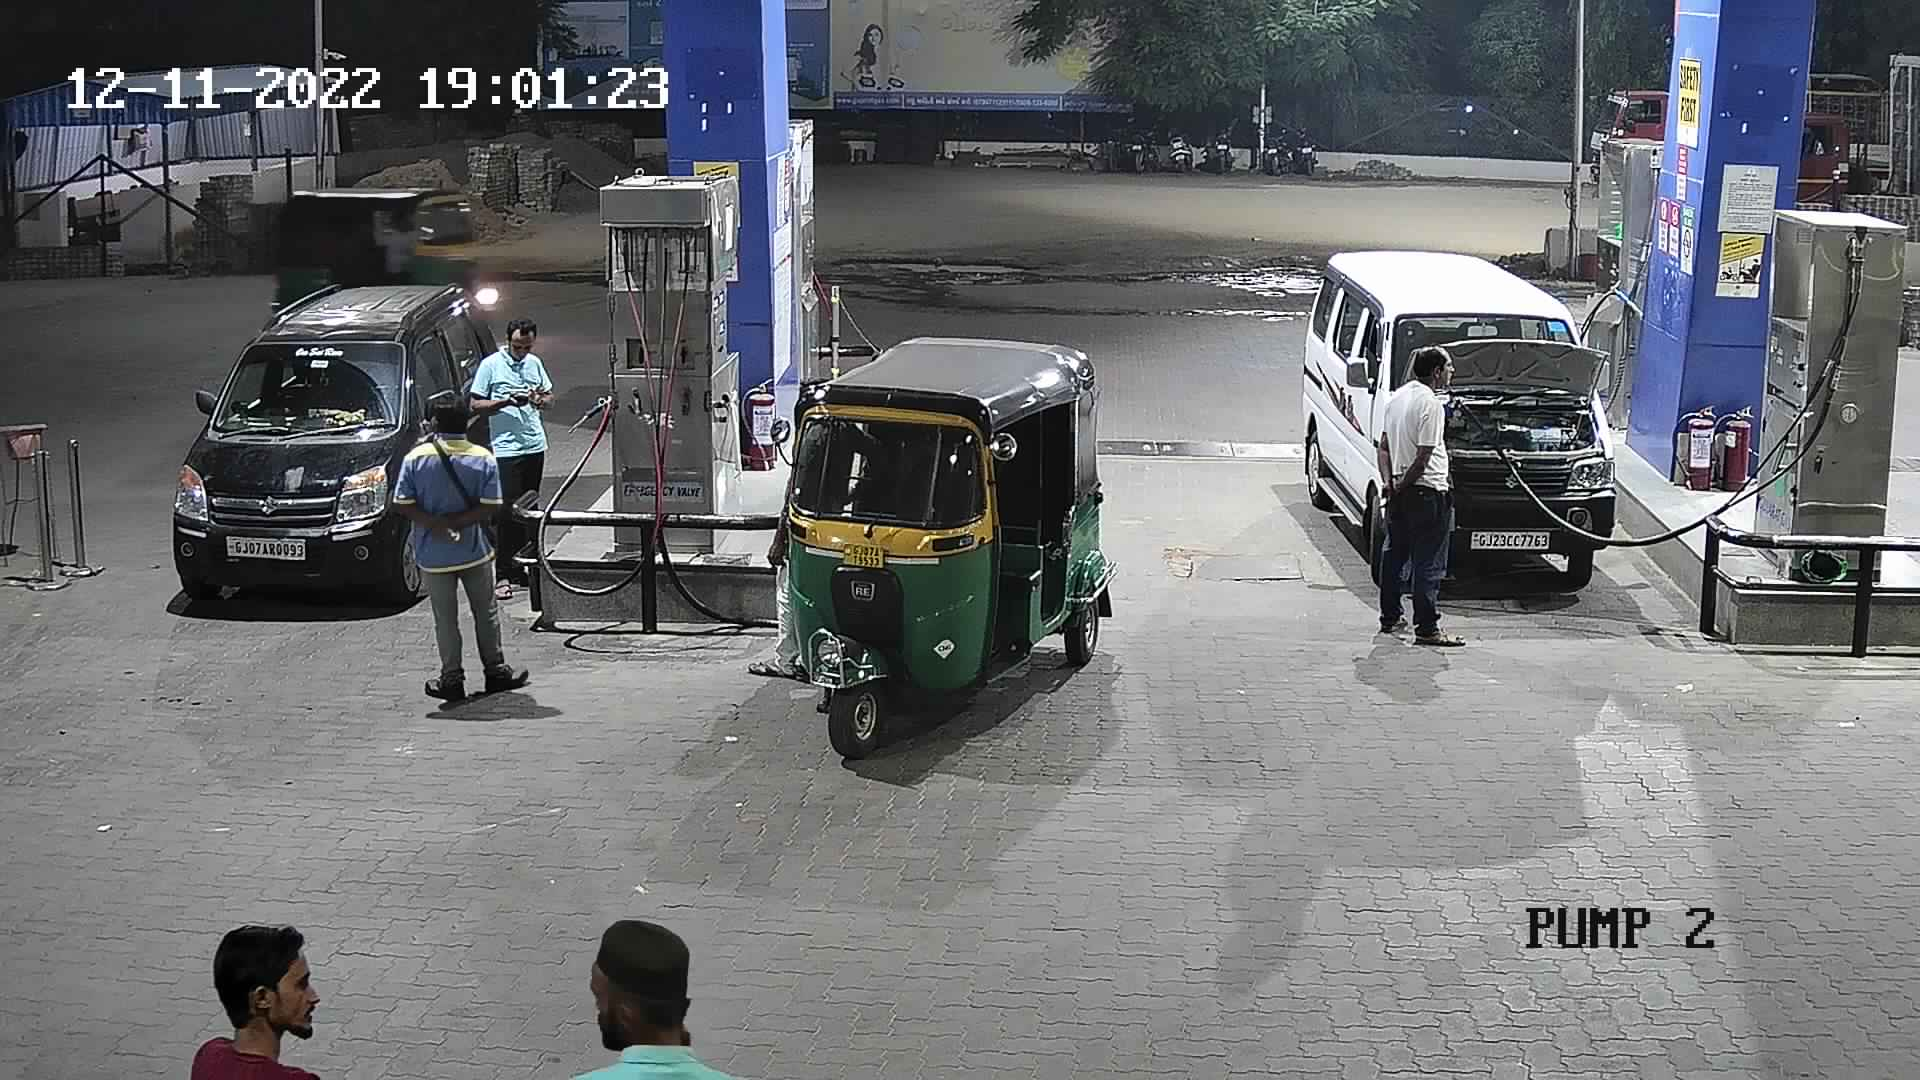Auto: (761, 326, 1108, 745), (249, 170, 504, 368)
Bike: (1109, 111, 1160, 182), (1153, 107, 1192, 179), (1251, 120, 1292, 179), (1203, 111, 1241, 173), (1286, 120, 1324, 179)
Car: (1292, 229, 1631, 593), (166, 262, 509, 604)
HMV: (1784, 44, 1917, 224), (1582, 67, 1673, 198)
Others: (389, 382, 531, 704)
